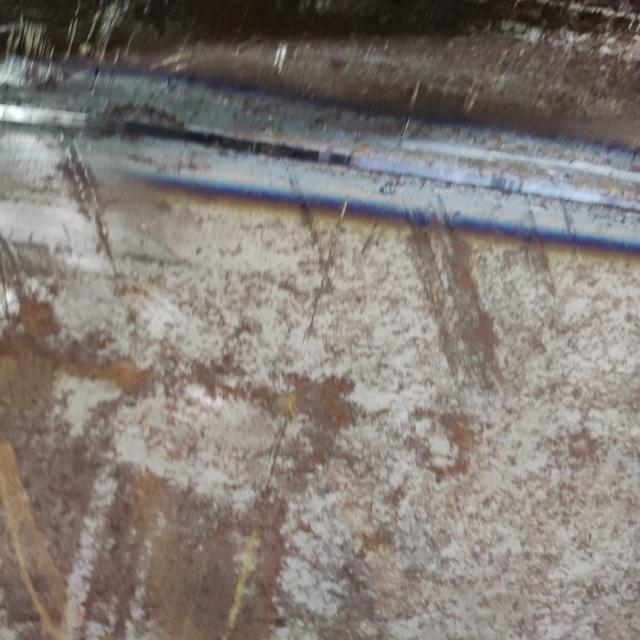seam: (0, 36, 640, 270)
